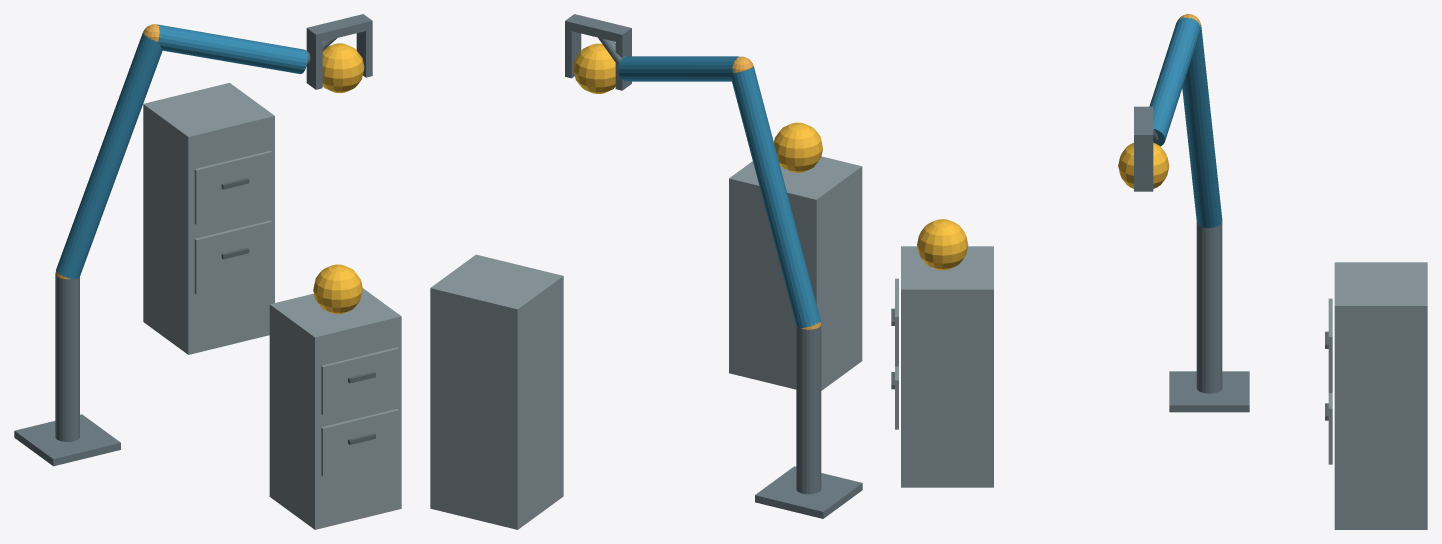
3 renders of one model, left to right at view 1: azimuth 30°, elevation 25°; view 2: azimuth 150°, elevation 25°; view 3: azimuth 270°, elevation 25°, orthographic. The views are drawn at different scales.
Parts seen in each view (by area): view 1: cabinet_2 body, cabinet_1 body, moving link 1, cabinet_2 drawer front, cabinet_2 drawer front.001, fixed post, cabinet_1 drawer front.001, cabinet_1 drawer front, moving link 2, pedestal, released ball_1, ball ball_2 (+3 smaller); view 2: cabinet_2 body, cabinet_1 body, moving link 1, fixed post, moving link 2, pedestal, released ball_1, ball ball_2, gripper bridge, gripper finger 1; view 3: cabinet_2 body, cabinet_1 body, fixed post, moving link 1, moving link 2, pedestal, released ball_1, ball ball_2, gripper finger 1, gripper bridge.
Boxes of the visible parts, x1,y1,x2,y2 form: cabinet_2 body: [143, 83, 274, 354]; cabinet_1 body: [269, 288, 401, 529]; moving link 1: [56, 33, 162, 279]; cabinet_2 drawer front: [194, 220, 272, 294]; cabinet_2 drawer front.001: [194, 150, 272, 224]; fixed post: [55, 273, 79, 441]; cabinet_1 drawer front.001: [321, 347, 399, 415]; cabinet_1 drawer front: [321, 409, 399, 476]; moving link 2: [157, 24, 307, 73]; pedestal: [14, 414, 120, 466]; released ball_1: [313, 264, 362, 314]; ball ball_2: [322, 43, 364, 92]; cabinet_2 body: [430, 254, 563, 529]; cabinet_1 body: [729, 156, 862, 390]; moving link 1: [731, 66, 820, 328]; fixed post: [796, 323, 821, 494]; moving link 2: [618, 56, 738, 81]; pedestal: [755, 466, 862, 518]; released ball_1: [774, 122, 822, 172]; ball ball_2: [573, 43, 615, 93]; gripper bridge: [565, 14, 631, 43]; gripper finger 1: [565, 29, 581, 78]; cabinet_2 body: [1334, 262, 1427, 529]; cabinet_1 body: [901, 246, 993, 487]; fixed post: [1196, 221, 1222, 393]; moving link 1: [1182, 25, 1222, 228]; moving link 2: [1149, 17, 1200, 146]; pedestal: [1169, 371, 1249, 412]; released ball_1: [917, 219, 968, 270]; ball ball_2: [1118, 142, 1169, 188]; gripper finger 1: [1134, 143, 1153, 191]; gripper bridge: [1134, 106, 1153, 143].
Size of the model in its own units: 1.12 by 1.44 by 1.67.
